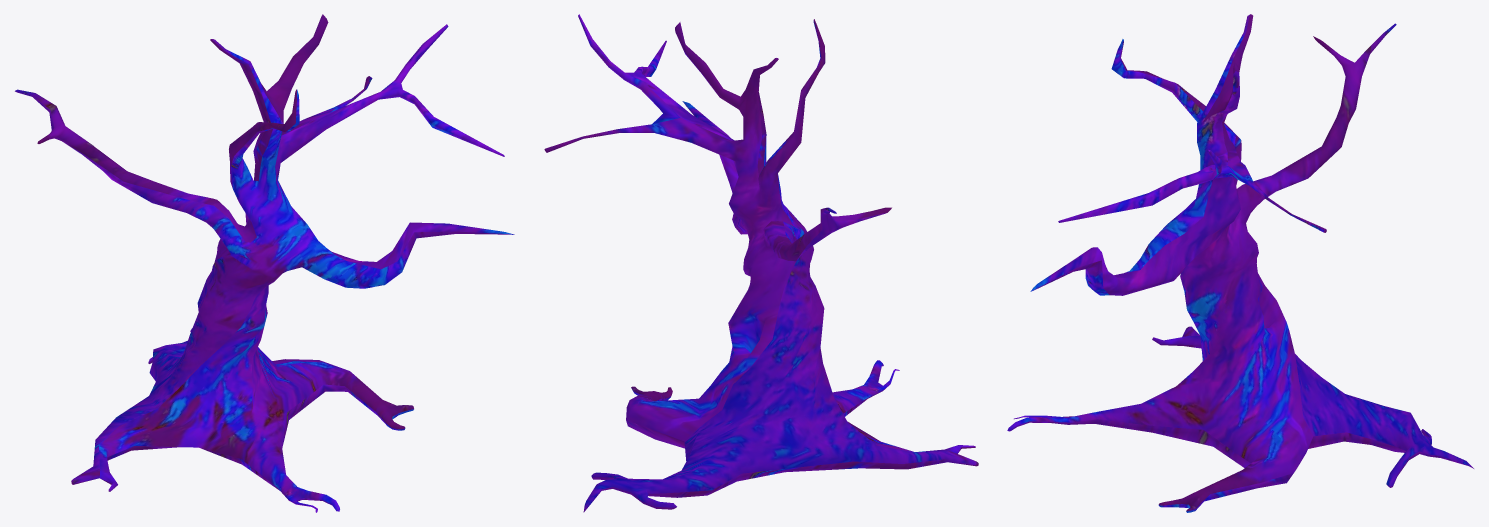
File: three-transformed.glb
The picture shows the model from 3 angles, left to right: view 1: azimuth 30°, elevation 25°; view 2: azimuth 150°, elevation 25°; view 3: azimuth 270°, elevation 25°; orthographic projection. The views are drawn at different scales.
Parts seen in each view (by area): view 1: Object_2; view 2: Object_2; view 3: Object_2.
Boxes of the visible parts, bbox=[...] form: Object_2: bbox=[15, 14, 514, 512]; Object_2: bbox=[544, 14, 978, 512]; Object_2: bbox=[1007, 14, 1473, 512].
Bounding box in the file's own units: 1 × 1 × 1.
1 material, 1 textured.
